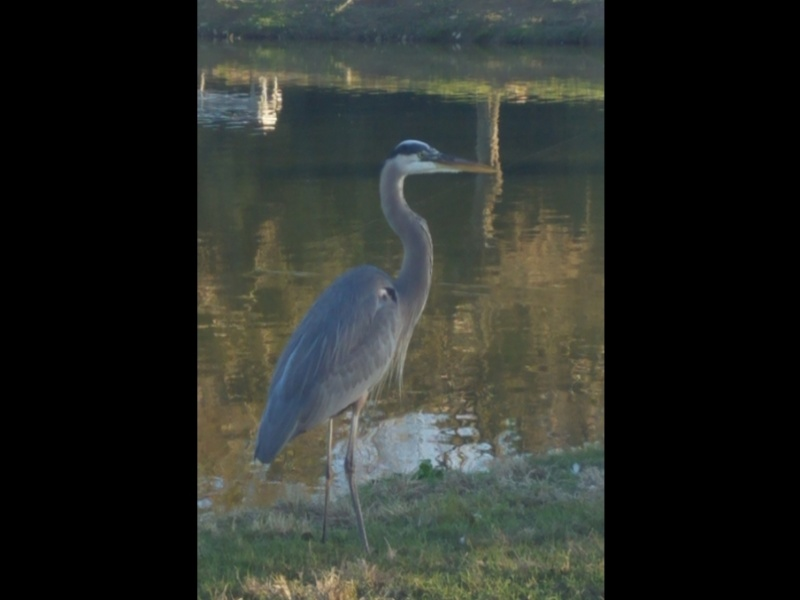heron: (250, 134, 497, 548)
